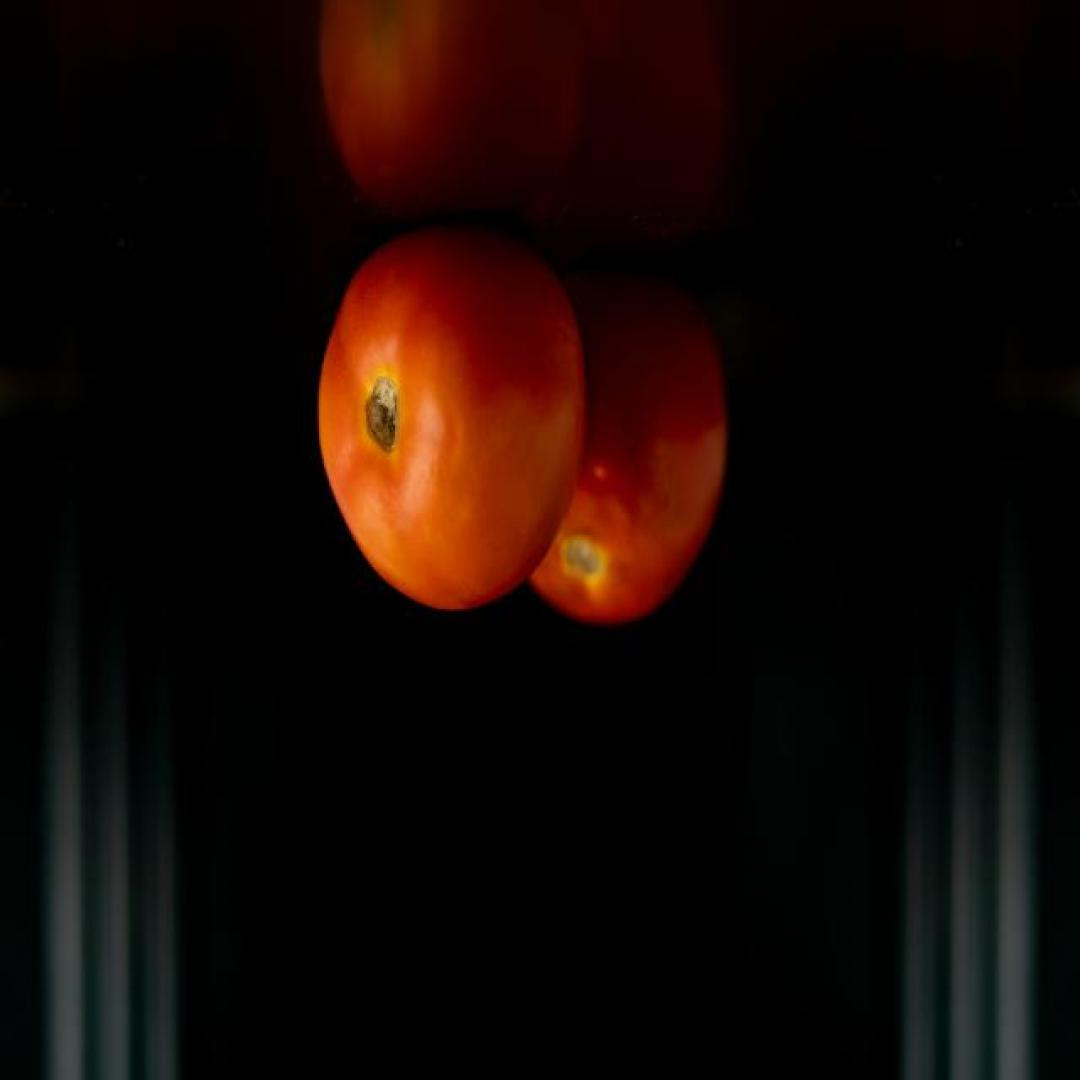matang: (319, 225, 587, 610), (501, 273, 724, 628)
